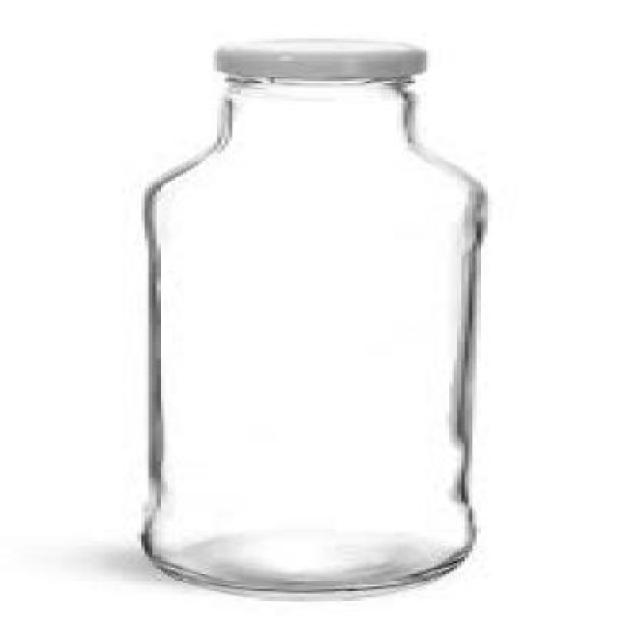kaca: (145, 72, 469, 590)
